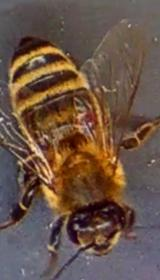varroa_mite: (66, 96, 102, 137)
